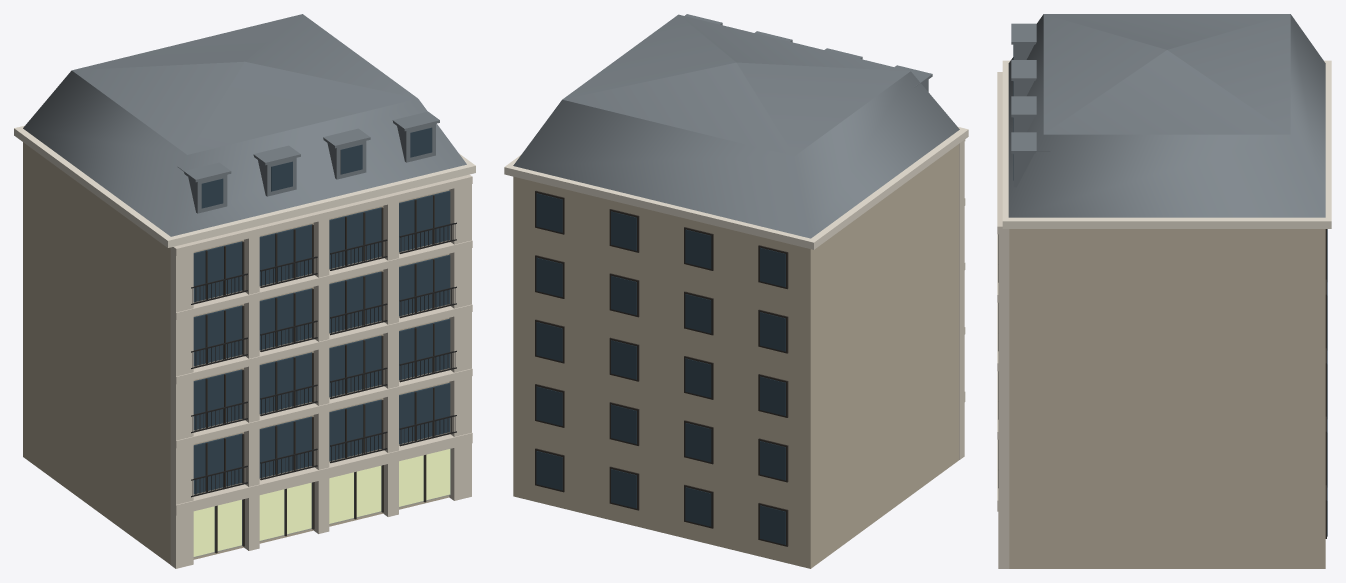
Rendered from plomba.glb.
The picture shows the model from 3 angles, left to right: view 1: azimuth 30°, elevation 25°; view 2: azimuth 150°, elevation 25°; view 3: azimuth 270°, elevation 25°; orthographic projection. The views are drawn at different scales.
Parts seen in each view (by area): view 1: Plomba – nowa kamienica; view 2: Plomba – nowa kamienica; view 3: Plomba – nowa kamienica.
Boxes of the visible parts, x1,y1,x2,y2 form: Plomba – nowa kamienica: [14, 14, 475, 568]; Plomba – nowa kamienica: [504, 14, 968, 568]; Plomba – nowa kamienica: [997, 14, 1331, 568].
Size of the model in its own units: 15.6 by 20 by 13.72.
